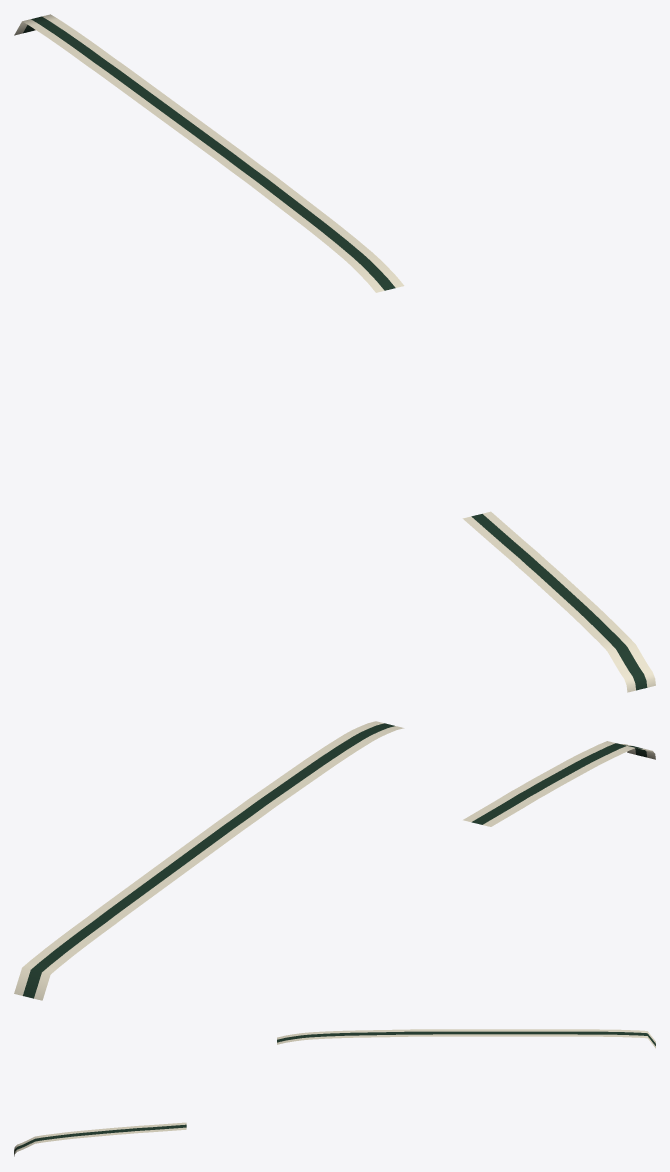
The model's file is stripe_damd_center.glb.
3 renders of one model, top to bottom at view 1: azimuth 30°, elevation 25°; view 2: azimuth 150°, elevation 25°; view 3: azimuth 270°, elevation 25°, orthographic. The views are drawn at different scales.
Visible parts, largest first — view 1: bandroof-16, bandroof-41, bandroof16, bandbonnet-16, bandbonnet-41, bandbonnet16; view 2: bandroof-16, bandroof16, bandroof-41, bandbonnet-16, bandbonnet-41, bandbonnet16; view 3: bandroof-16, bandroof-41, bandroof16, bandbonnet-16, bandbonnet-41, bandbonnet16.
Part boxes in pixels (x1,y1,x2,y2): bandroof-16: (23,16,395,290); bandroof-41: (14,19,384,292); bandroof16: (34,14,404,287); bandbonnet-16: (471,514,647,690); bandbonnet-41: (462,516,635,692); bandbonnet16: (482,511,655,687); bandroof-16: (23,723,394,998); bandroof16: (14,721,383,995); bandroof-41: (34,726,404,1000); bandbonnet-16: (471,743,647,824); bandbonnet-41: (483,746,655,826); bandbonnet16: (463,741,635,821); bandroof-16: (277,1031,655,1045); bandroof-41: (277,1029,655,1043); bandroof16: (277,1034,655,1048); bandbonnet-16: (14,1124,186,1154); bandbonnet-41: (14,1122,186,1151); bandbonnet16: (14,1127,186,1156).
Size of the model in its own units: 0.0821 by 0.635 by 3.05.
